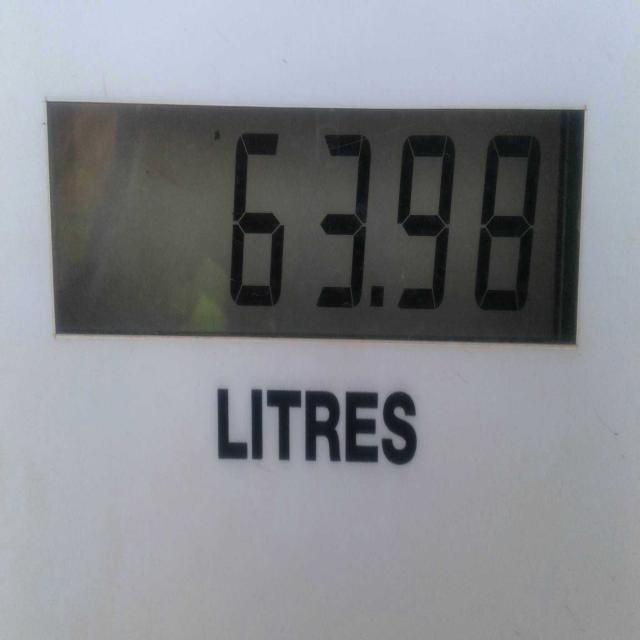.: (364, 274, 392, 324)
3: (309, 132, 372, 316)
6: (227, 125, 293, 315)
8: (472, 129, 546, 323)
9: (394, 129, 462, 318)
